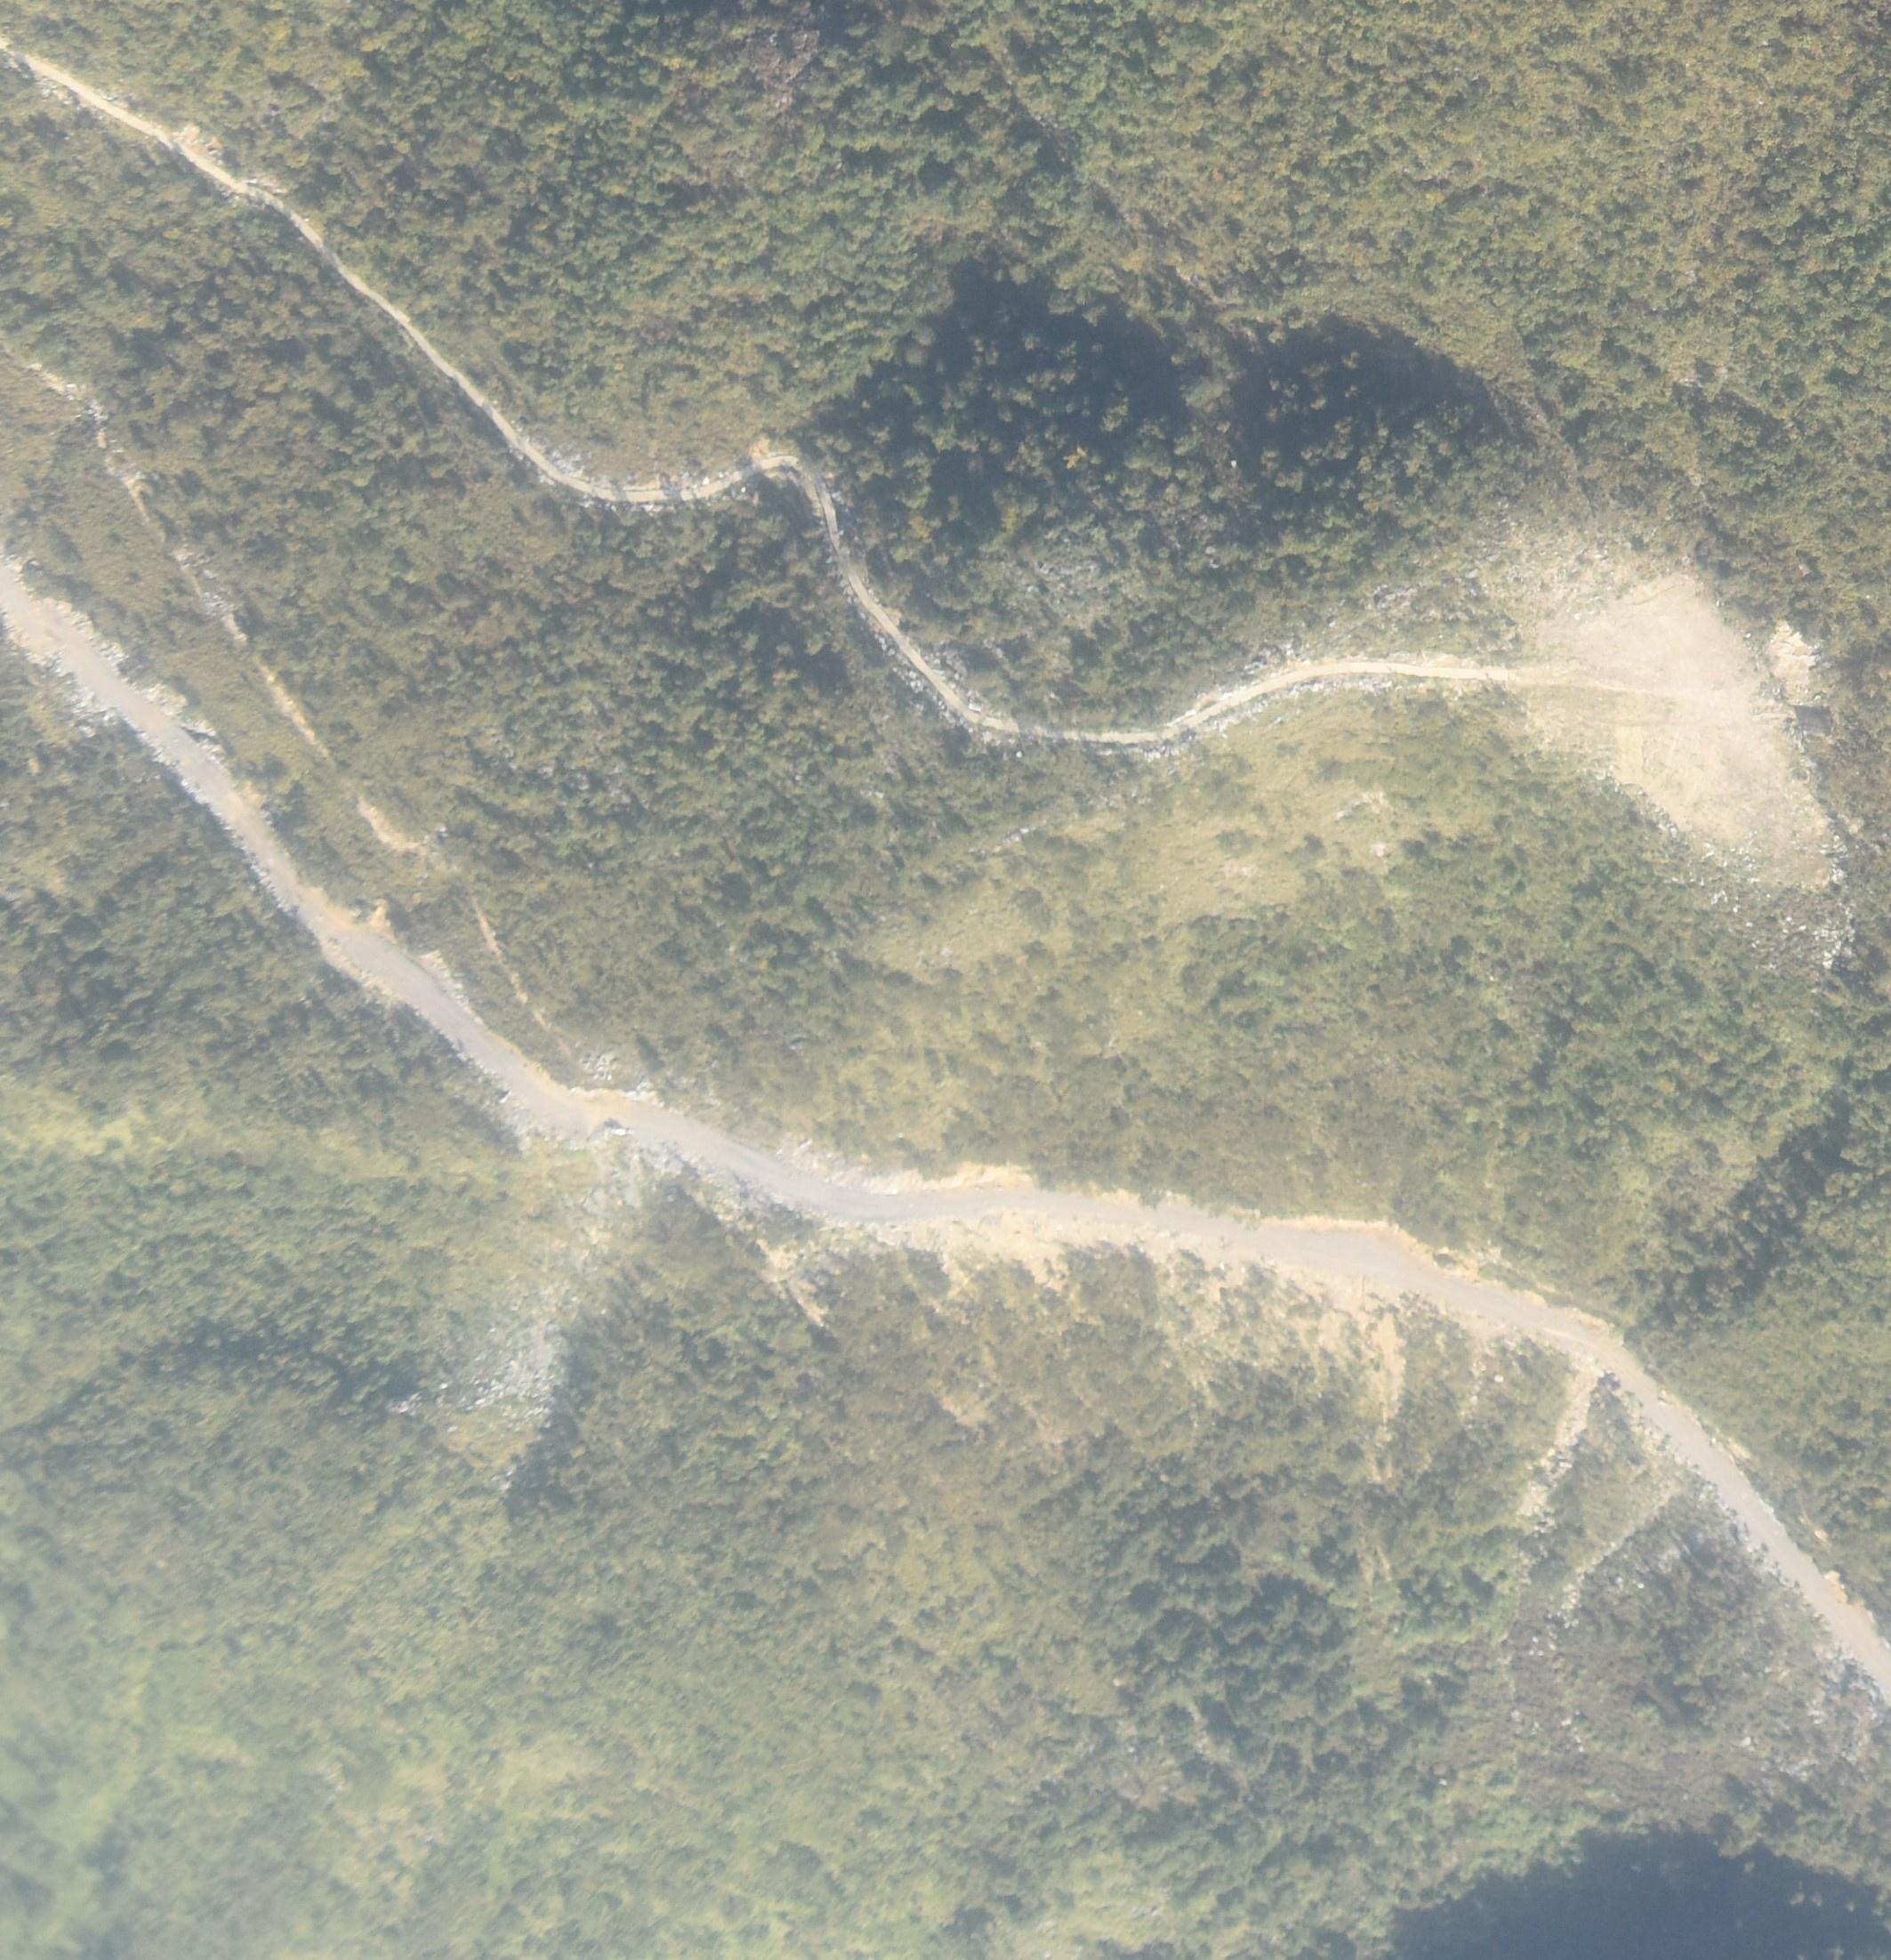quarry: (1506, 544, 1854, 887)
